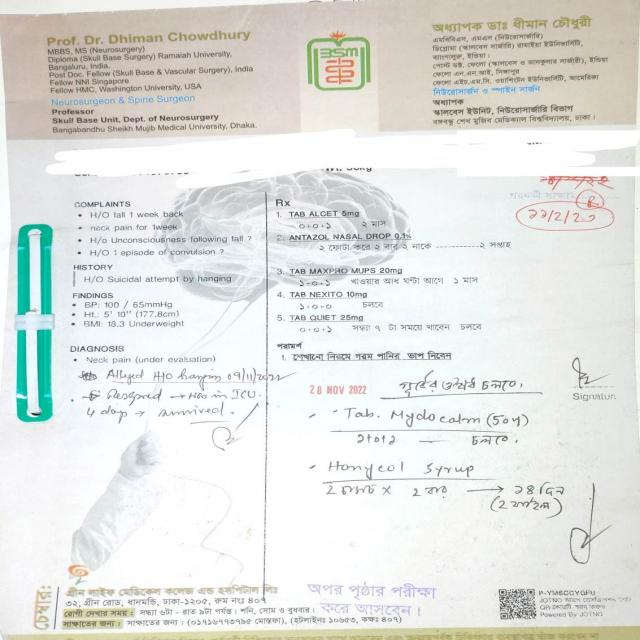Honycol: (317, 454, 409, 481)
Mydocalm: (388, 407, 486, 431)
